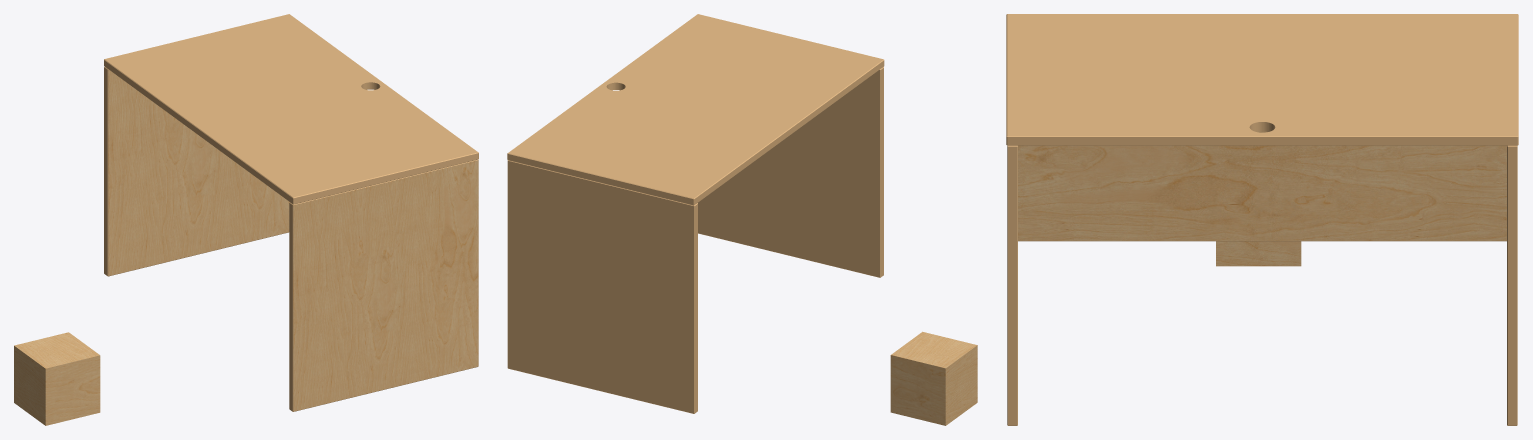
The model's file is desk.gltf.
3 views of the same model, side by side, from view 1: azimuth 30°, elevation 25°; view 2: azimuth 150°, elevation 25°; view 3: azimuth 270°, elevation 25° (orthographic). The views are drawn at different scales.
Parts seen in each view (by area): view 1: Desk, Cube; view 2: Desk, Cube; view 3: Desk, Cube.
Part boxes in pixels (x1,y1,x2,y2): Desk: (104, 14, 478, 411); Cube: (14, 332, 100, 425); Desk: (507, 14, 884, 413); Cube: (890, 331, 977, 425); Desk: (1006, 14, 1518, 425); Cube: (1216, 241, 1301, 266).
Size of the model in its own units: 130 by 85 by 120.
1 material, 1 textured.
